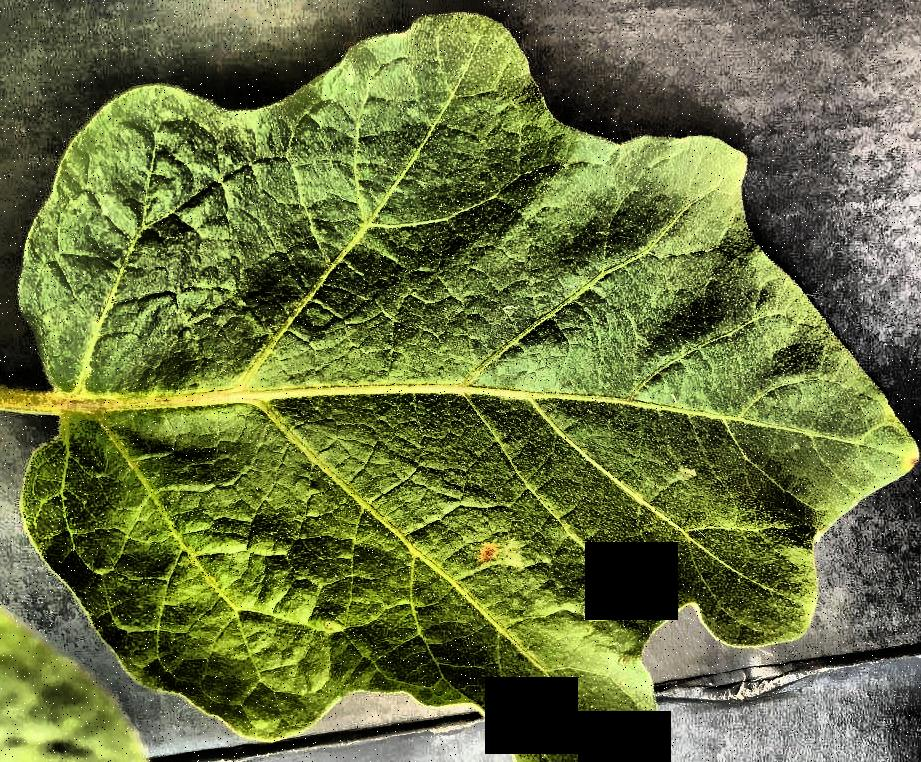HEALTHY: (0, 1, 921, 762)
